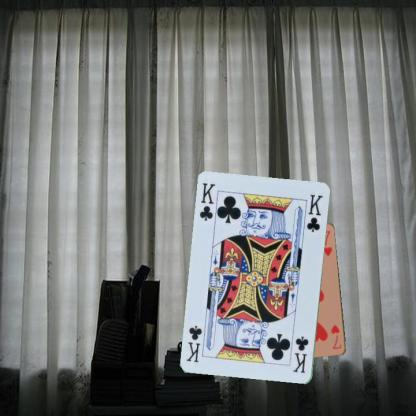7h: (328, 322, 343, 351)
Kc: (197, 181, 217, 222), (290, 334, 310, 374)
